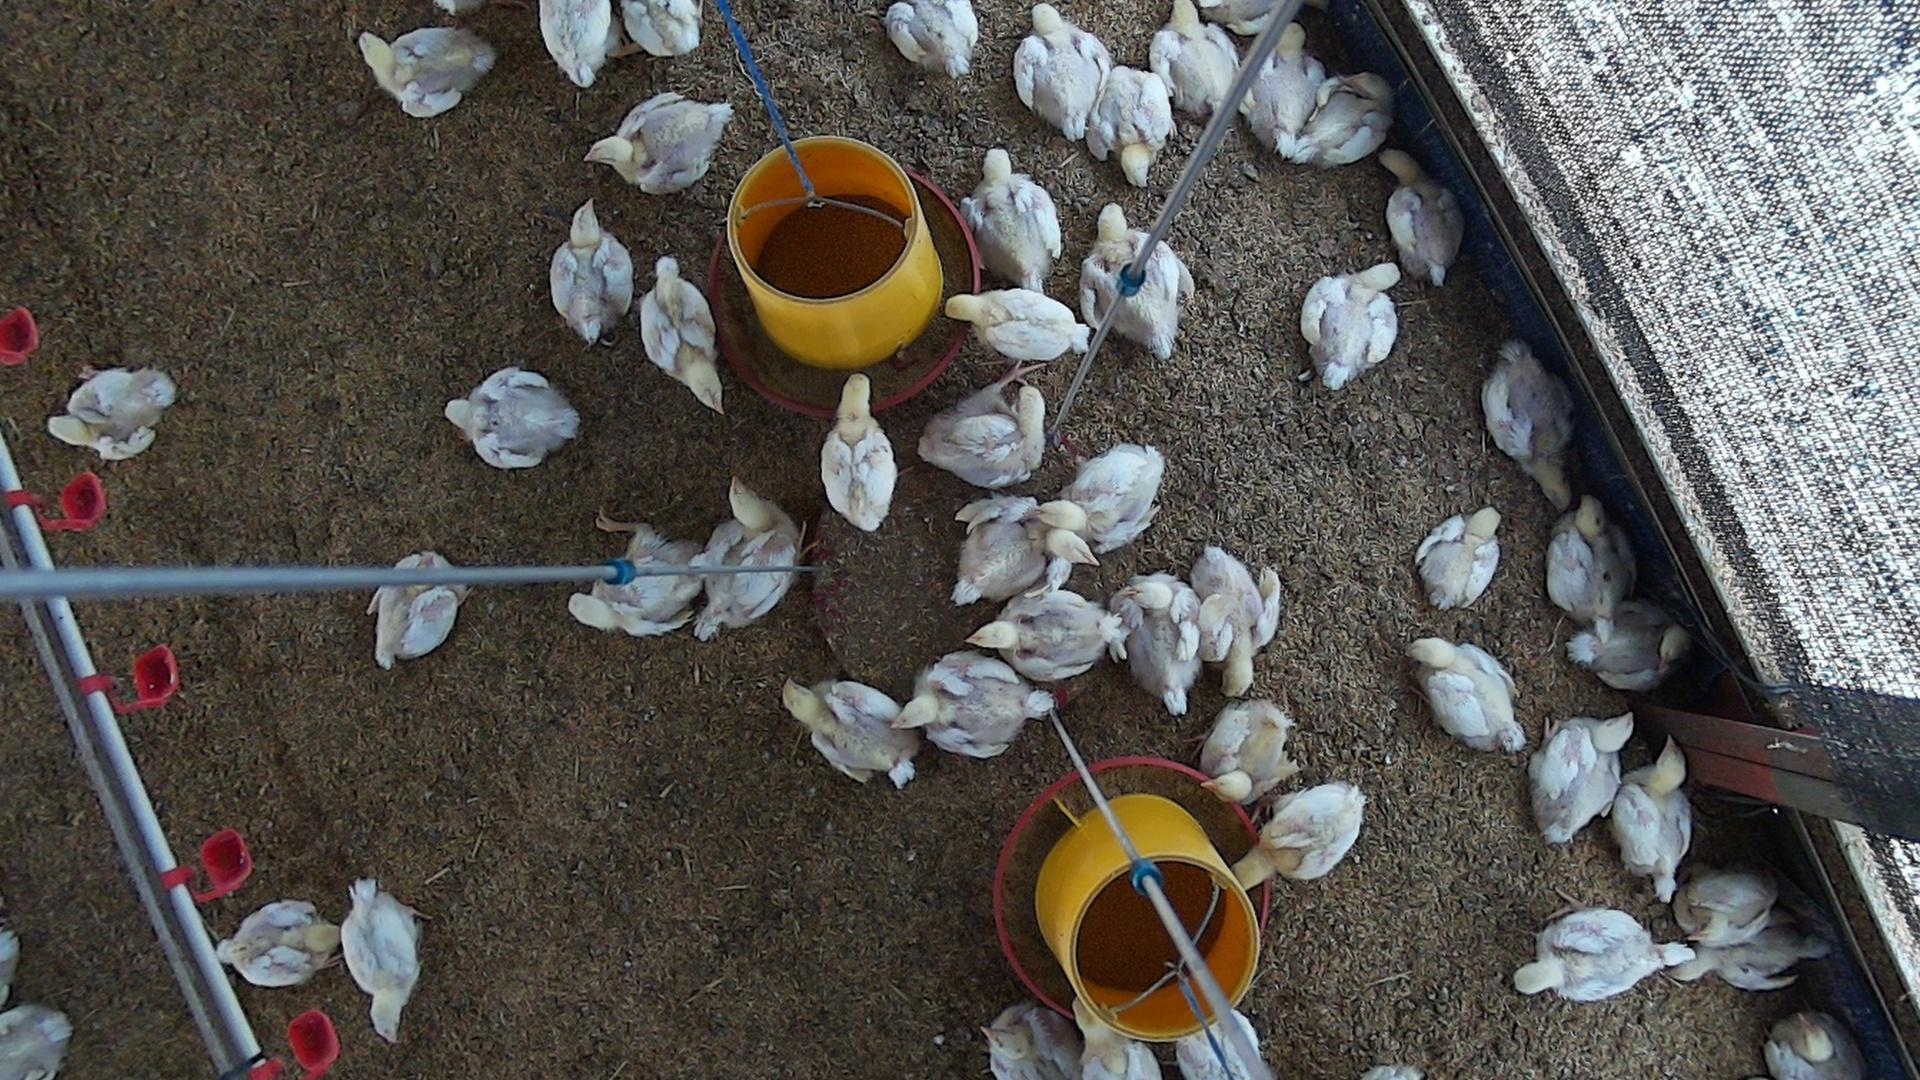ayam_broiler: (699, 475, 816, 641), (568, 505, 709, 636), (899, 649, 1055, 757), (1513, 909, 1693, 1000), (1091, 214, 1195, 360), (1484, 340, 1572, 509), (957, 149, 1063, 290), (782, 679, 918, 789), (1046, 443, 1166, 564), (588, 92, 733, 193), (919, 373, 1046, 487), (1014, 1, 1112, 142), (971, 587, 1120, 678), (444, 367, 579, 467), (1236, 783, 1365, 887), (1110, 572, 1204, 715), (1407, 638, 1524, 752), (1530, 715, 1634, 841), (1613, 738, 1692, 905), (949, 504, 1077, 604), (1193, 547, 1278, 699), (342, 878, 419, 1042), (1303, 261, 1402, 389), (640, 255, 721, 409), (359, 24, 495, 116), (45, 367, 175, 459), (550, 200, 634, 342), (820, 373, 895, 530), (1237, 20, 1325, 152), (1146, 0, 1238, 124), (368, 554, 465, 666), (219, 898, 339, 986), (945, 287, 1089, 360), (1092, 61, 1172, 186), (1284, 73, 1393, 165), (1547, 500, 1627, 621), (1569, 608, 1685, 691), (1204, 696, 1294, 800), (1418, 505, 1501, 609), (1185, 982, 1274, 1080), (1386, 167, 1458, 286), (982, 1001, 1081, 1080), (1676, 869, 1776, 947), (1075, 996, 1162, 1080), (885, 0, 978, 78), (1766, 1013, 1870, 1079), (539, 0, 616, 87), (618, 0, 699, 57)
